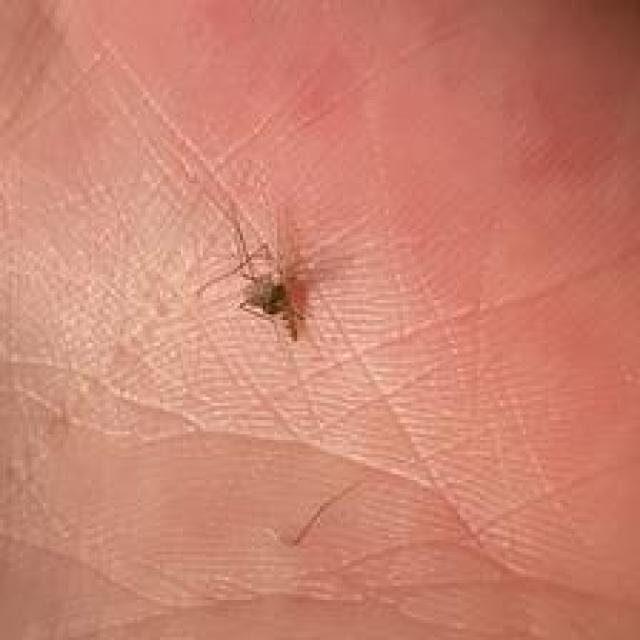Culex: (192, 199, 354, 344)
